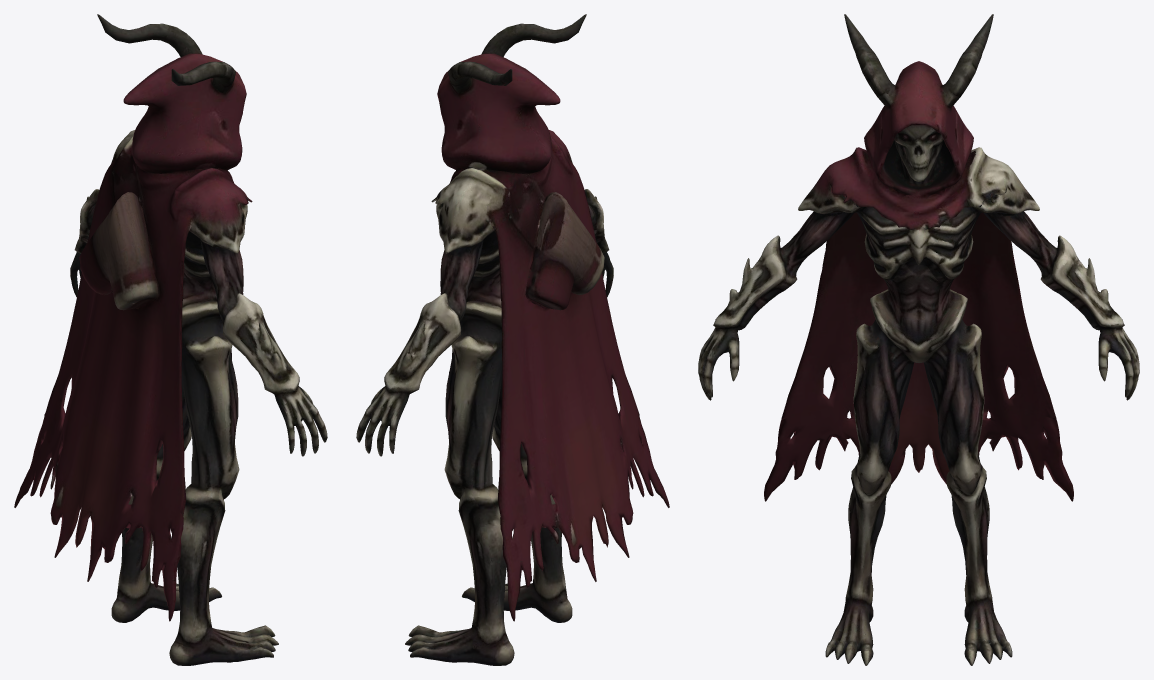
Rendered from archer.glb.
3 renders of one model, left to right at view 1: azimuth 30°, elevation 25°; view 2: azimuth 150°, elevation 25°; view 3: azimuth 270°, elevation 25°, orthographic.
Parts seen in each view (by area): view 1: tripo_part_1, tripo_part_0, tripo_part_4, tripo_part_2, tripo_part_3, tripo_part_7, tripo_part_8, tripo_part_5; view 2: tripo_part_1, tripo_part_0, tripo_part_4, tripo_part_2, tripo_part_3, tripo_part_7, tripo_part_8, tripo_part_5; view 3: tripo_part_0, tripo_part_1, tripo_part_2, tripo_part_3, tripo_part_4, tripo_part_5, tripo_part_8, tripo_part_6.
Part boxes in pixels (x1,y1,x2,y2): tripo_part_1: (14,161,191,621); tripo_part_0: (88,204,278,665); tripo_part_4: (123,53,246,174); tripo_part_2: (70,189,327,456); tripo_part_3: (111,130,252,253); tripo_part_7: (79,192,158,310); tripo_part_8: (97,14,235,93); tripo_part_5: (184,231,211,285); tripo_part_1: (492,164,669,621); tripo_part_0: (405,205,597,665); tripo_part_4: (437,53,560,173); tripo_part_2: (356,189,613,456); tripo_part_3: (431,130,572,253); tripo_part_7: (525,192,604,310); tripo_part_8: (448,14,586,92); tripo_part_5: (472,231,499,280); tripo_part_0: (781,211,1056,665); tripo_part_1: (764,212,1073,501); tripo_part_2: (698,235,1139,400); tripo_part_3: (798,147,1039,229); tripo_part_4: (864,61,973,198); tripo_part_5: (856,205,981,284); tripo_part_8: (844,14,993,106); tripo_part_6: (894,125,943,181).
Bounding box in the file's own units: 0.3069 × 1 × 0.667.
Materials: 9 (9 with a texture image).
